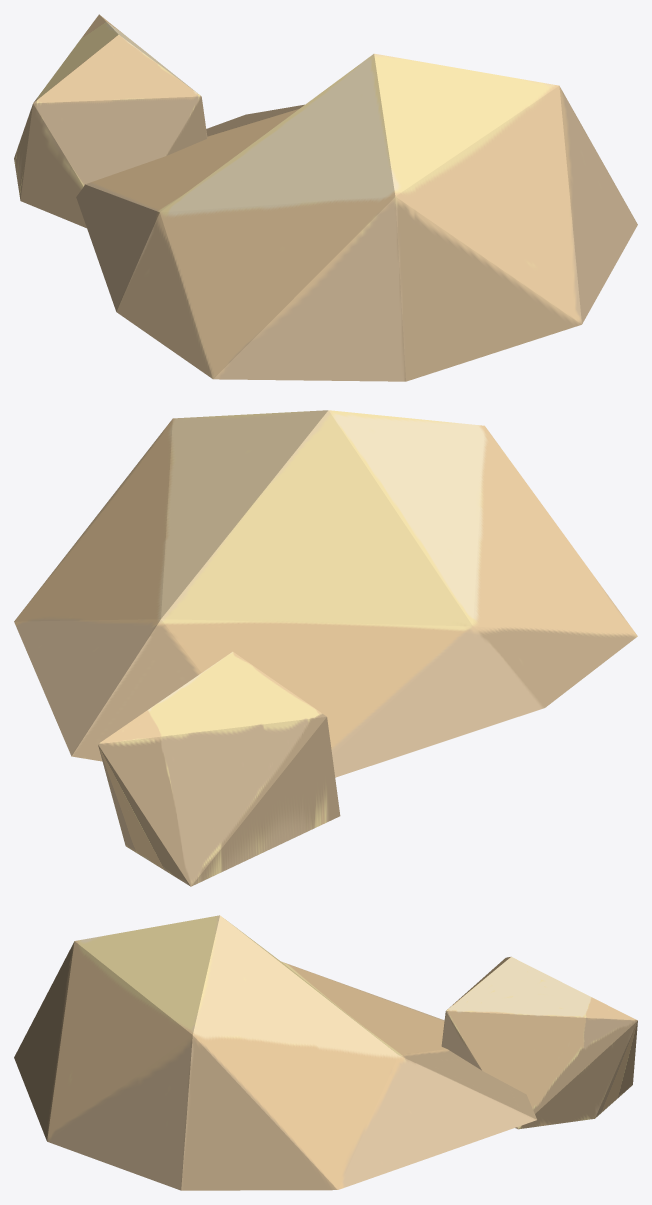
File: Stone4@Model.fbx
The picture shows the model from 3 angles, top to bottom: view 1: azimuth 30°, elevation 25°; view 2: azimuth 150°, elevation 25°; view 3: azimuth 270°, elevation 25°; orthographic projection. The views are drawn at different scales.
Parts seen in each view (by area): view 1: Stone4 (×2); view 2: Stone4 (×2); view 3: Stone4 (×2).
Part boxes in pixels (bbox=[...]): Stone4 (×2): bbox=[14, 14, 637, 381]; Stone4 (×2): bbox=[14, 410, 637, 886]; Stone4 (×2): bbox=[14, 915, 637, 1190].
Bounding box in the file's own units: 129 × 67.1 × 176.
